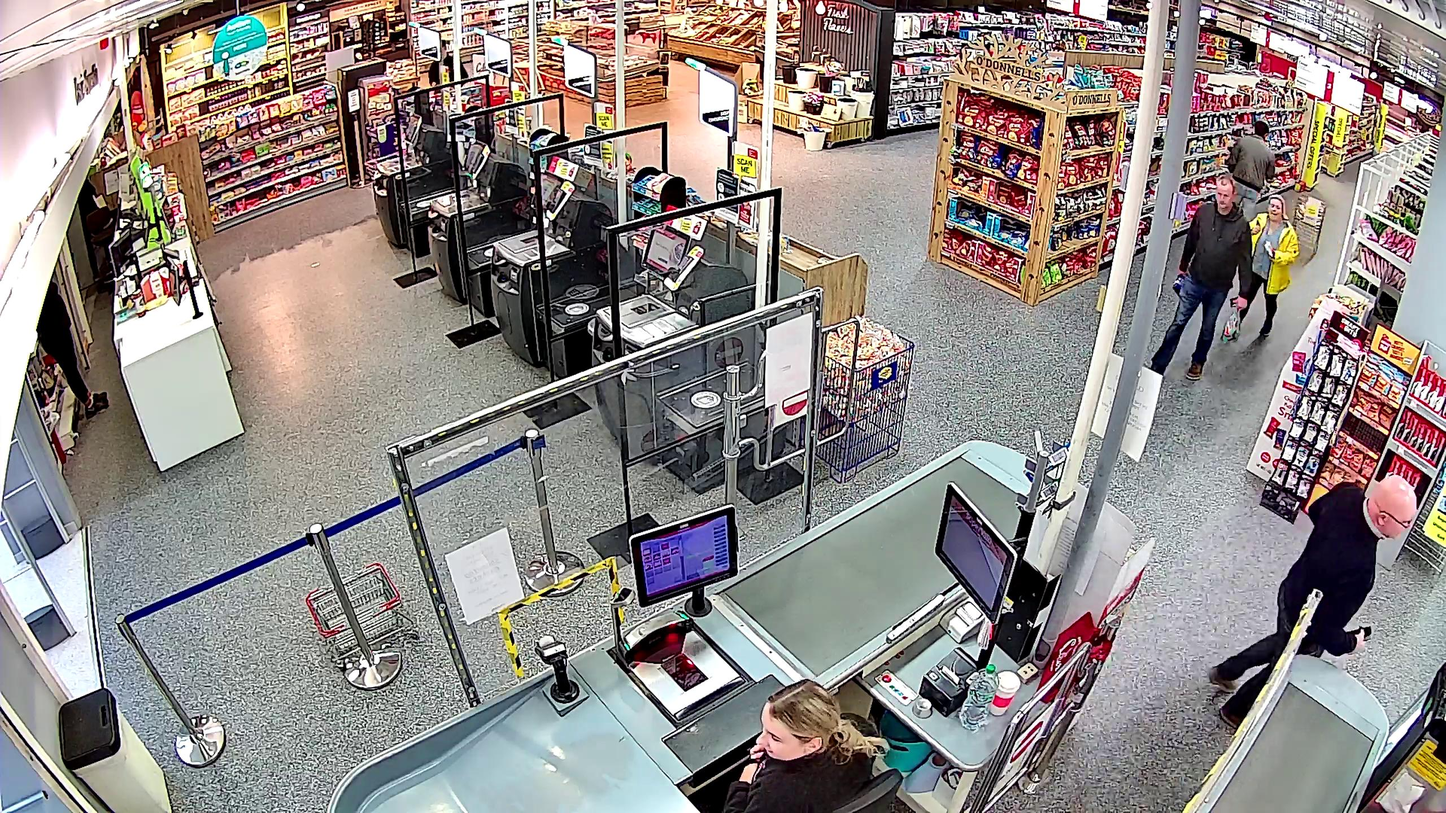carrying-item: (1219, 308, 1242, 343), (1173, 269, 1189, 298), (1263, 241, 1277, 261)
occupied-checkout-counter: (529, 474, 1026, 813)
person: (1148, 174, 1253, 380), (1241, 195, 1299, 336)
person-with-carrying-item: (1148, 174, 1253, 380), (1242, 195, 1300, 337)
